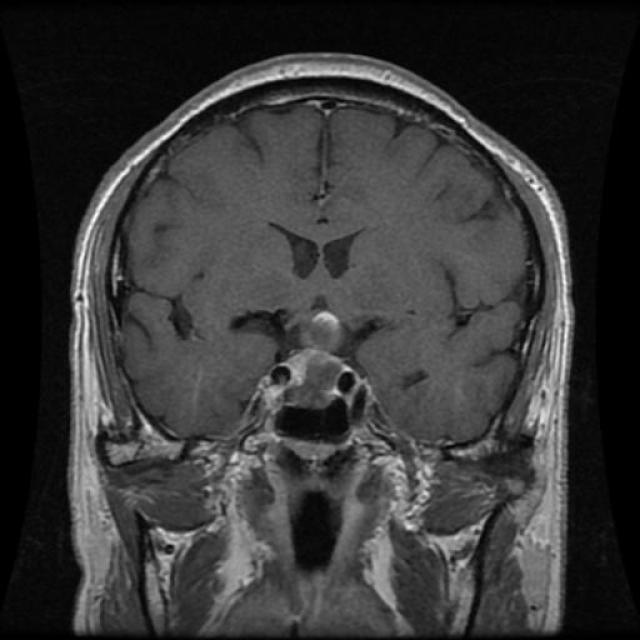brain_tumor: (279, 298, 356, 360)
